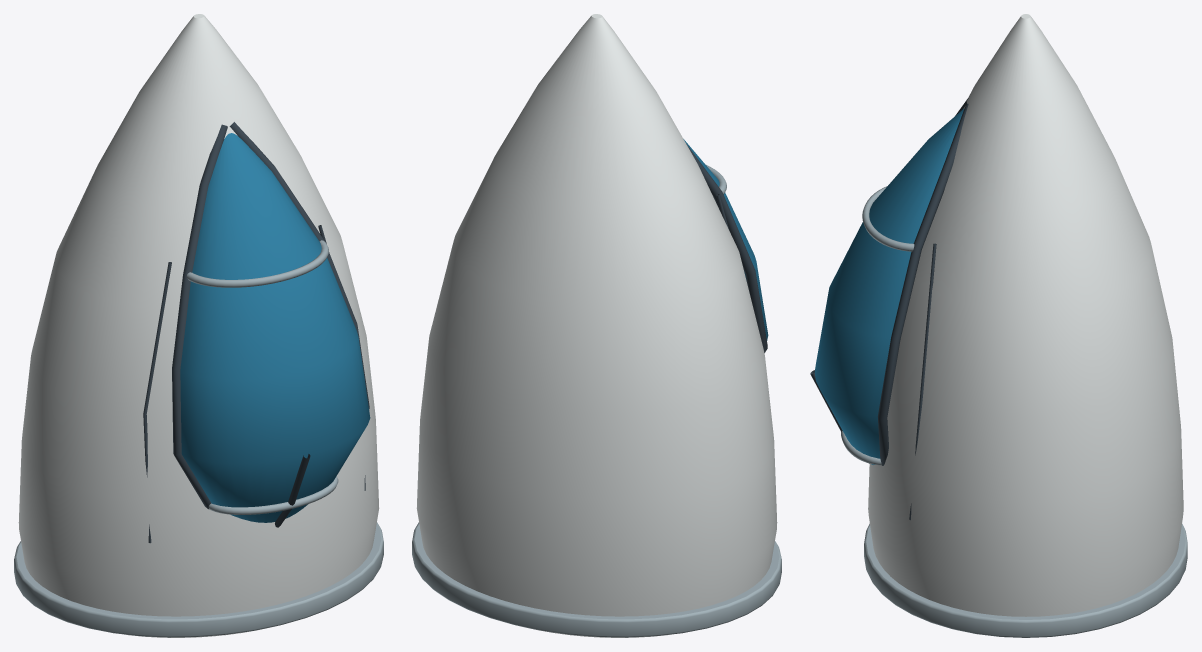
The model's file is marineCabin.glb.
3 views of the same model, side by side, from view 1: azimuth 30°, elevation 25°; view 2: azimuth 150°, elevation 25°; view 3: azimuth 270°, elevation 25° (orthographic).
Parts seen in each view (by area): view 1: marineCabin; view 2: marineCabin; view 3: marineCabin.
Part boxes in pixels (x1=…): marineCabin: x1=14, y1=14, x2=383, y2=637; marineCabin: x1=412, y1=14, x2=781, y2=637; marineCabin: x1=810, y1=14, x2=1187, y2=637.
Size of the model in its own units: 5 by 8 by 5.
